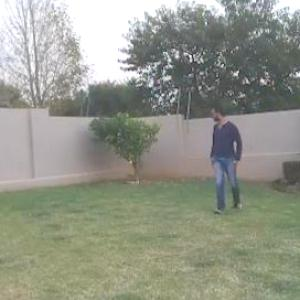follow: (202, 94, 249, 232)
